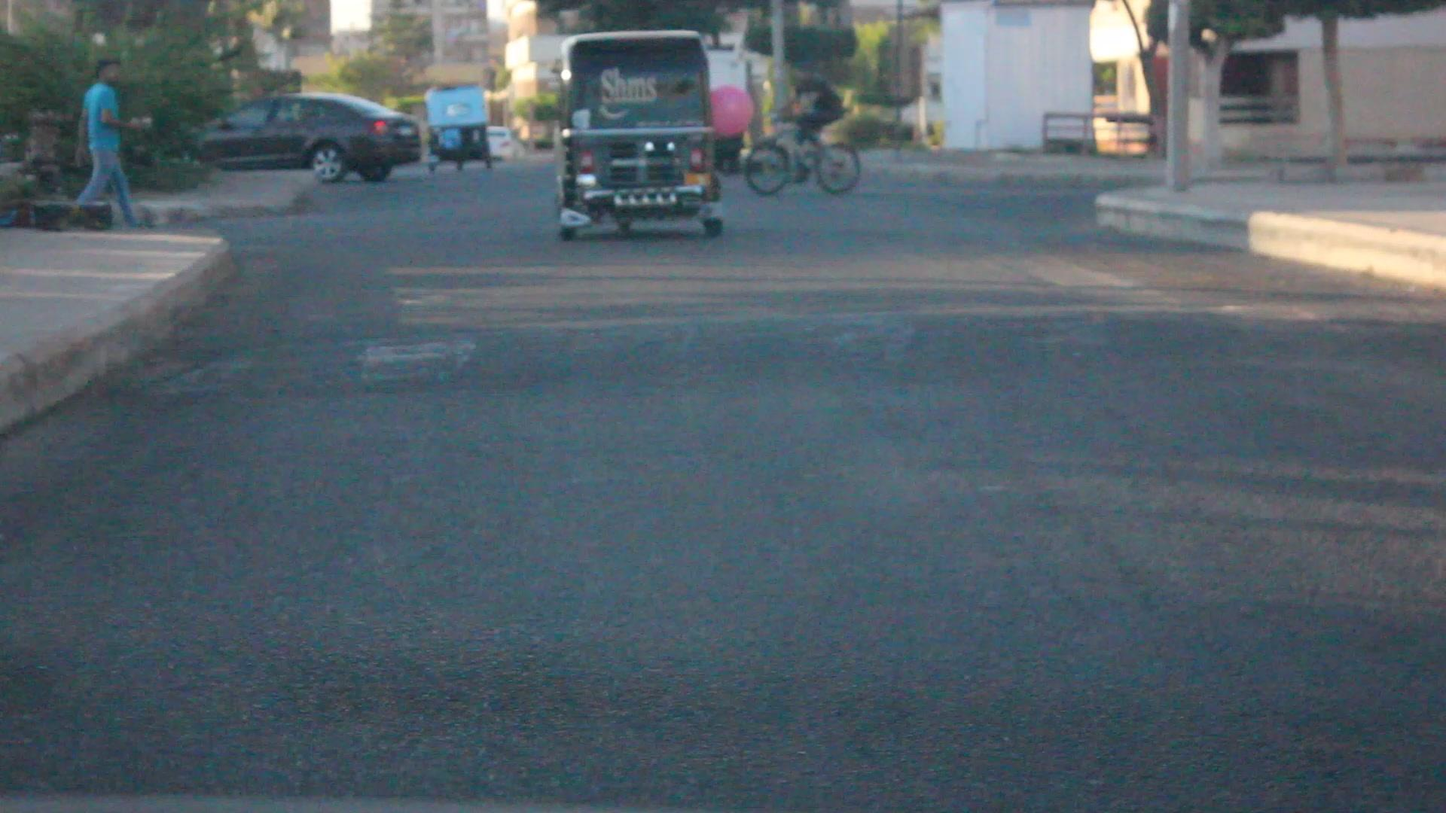Bump: (55, 292, 1442, 411)
